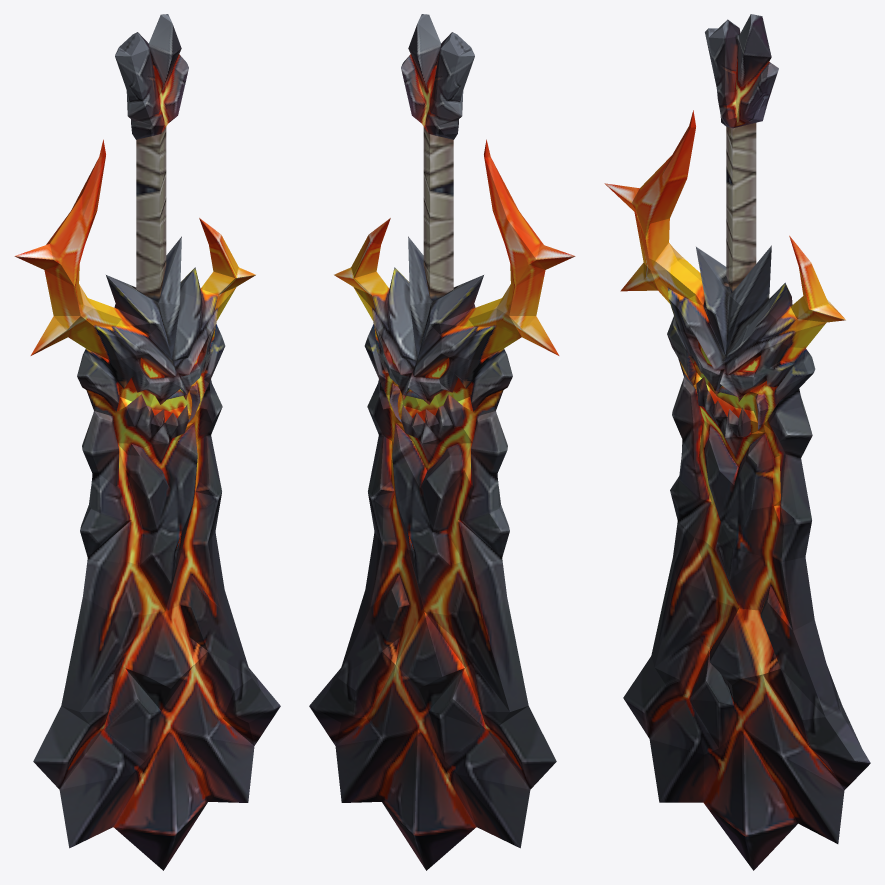
Rendered from weapon_surtr_bigsword.fbx.
3 renders of one model, left to right at view 1: azimuth 30°, elevation 25°; view 2: azimuth 150°, elevation 25°; view 3: azimuth 330°, elevation 25°, orthographic.
Visible parts, largest first — view 1: weapon_surtr_bigsword; view 2: weapon_surtr_bigsword; view 3: weapon_surtr_bigsword.
Boxes of the visible parts, x1,y1,x2,y2 form: weapon_surtr_bigsword: (14,14,280,870); weapon_surtr_bigsword: (309,14,575,870); weapon_surtr_bigsword: (604,14,870,870).
Bounding box in the file's own units: 60.43 × 185 × 20.49.
